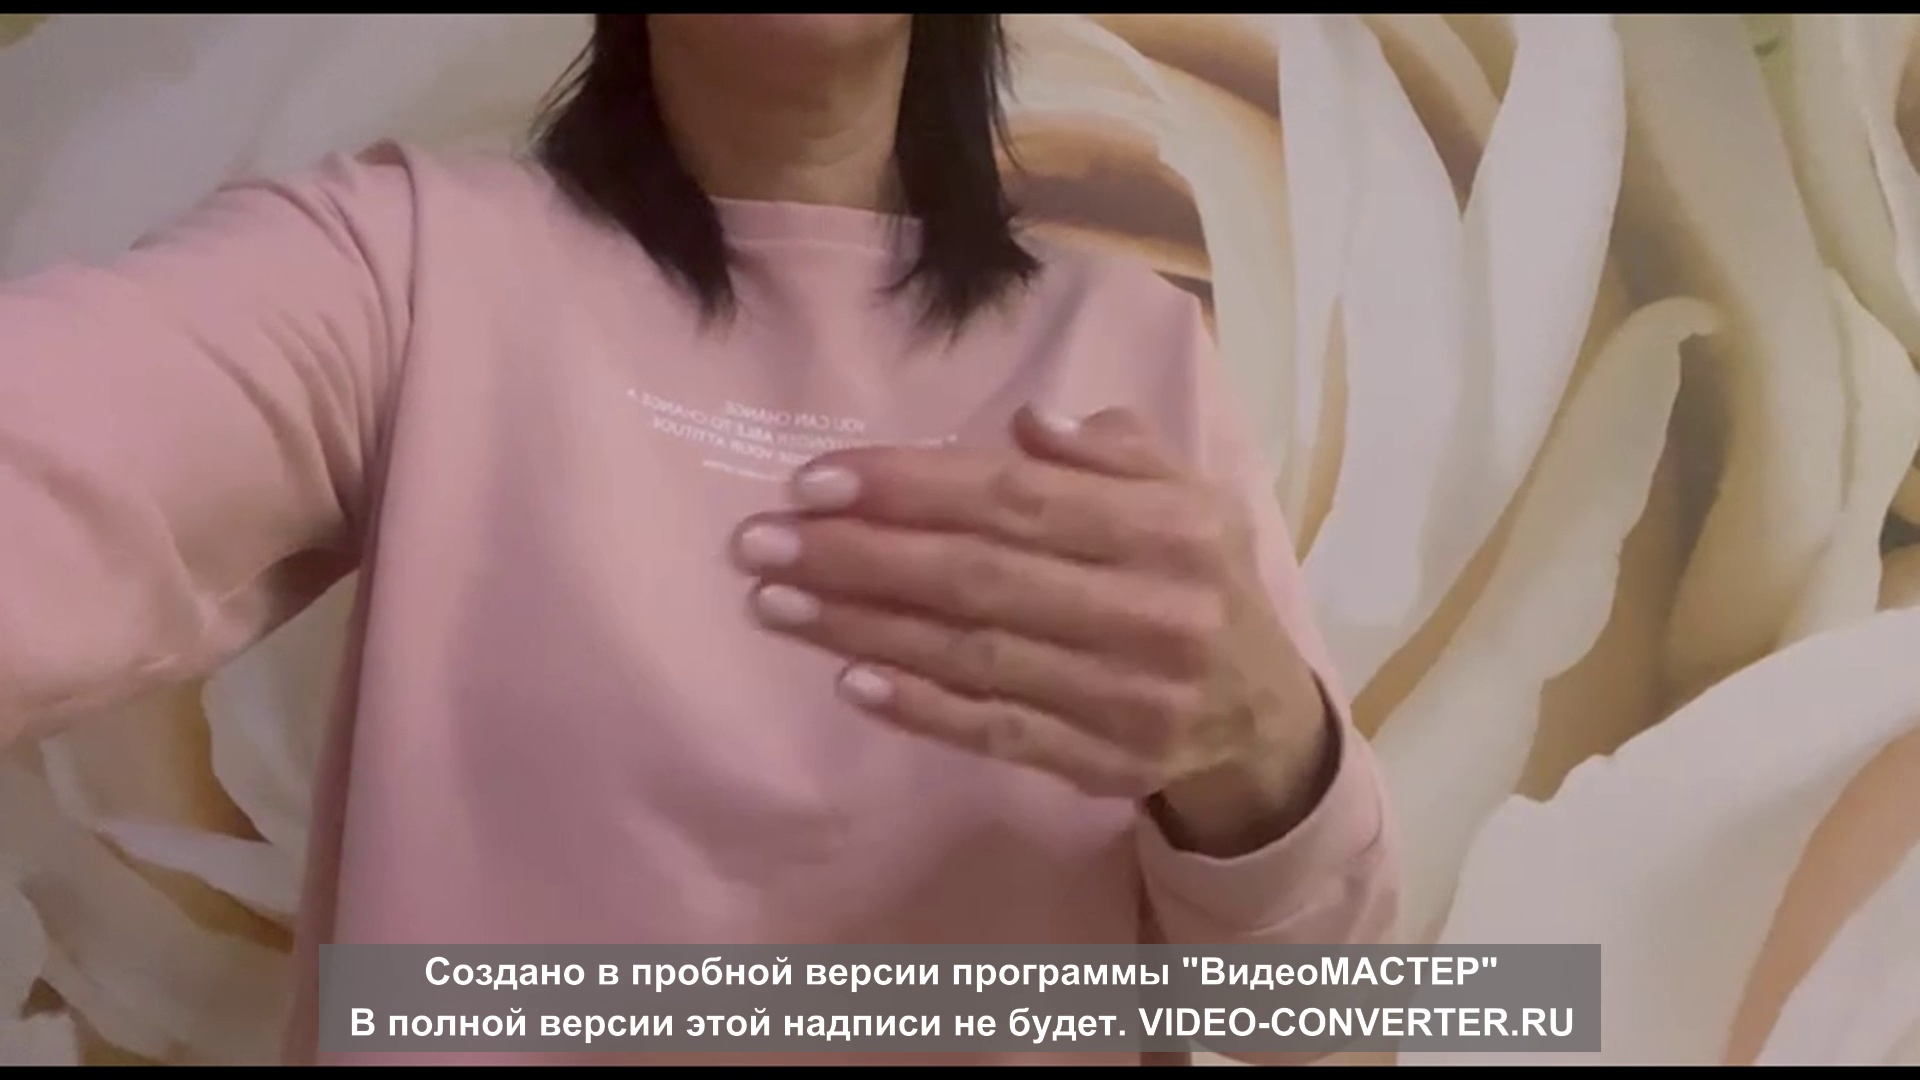Кисть: (733, 397, 1287, 804)
